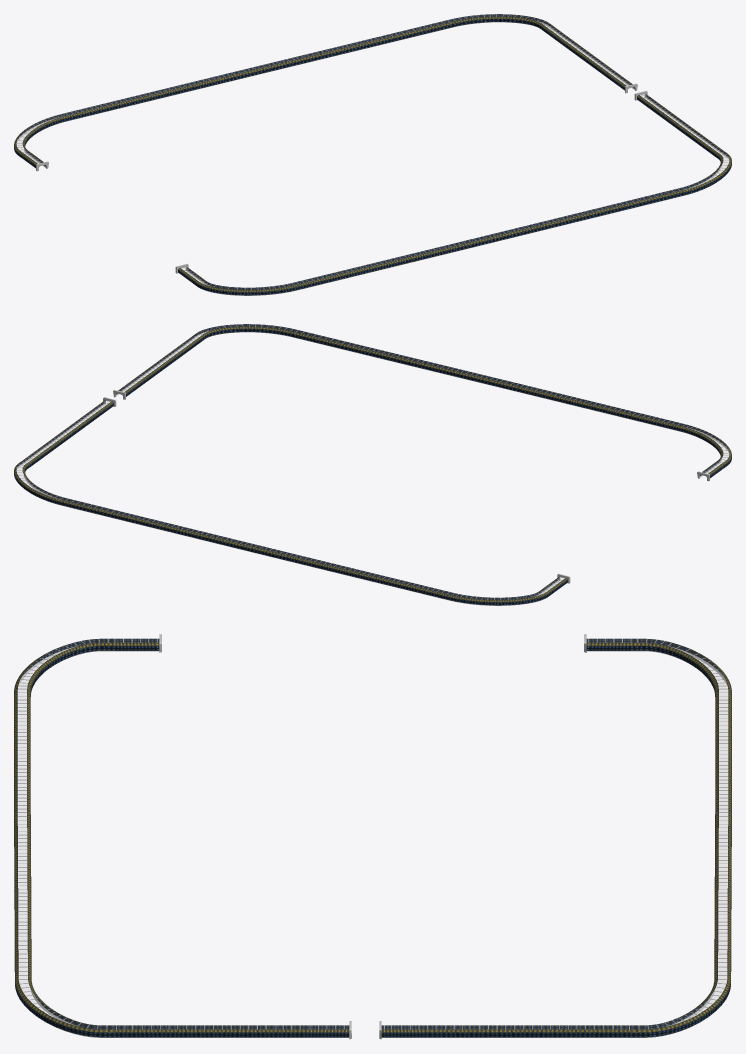
File: Trunle.fbx
The picture shows the model from 3 angles, top to bottom: view 1: azimuth 30°, elevation 25°; view 2: azimuth 150°, elevation 25°; view 3: azimuth 270°, elevation 25°; orthographic projection. The views are drawn at different scales.
Visible parts, largest first — view 1: Tunnel_main9, Tunnel_main7, base, group1_pCube3; view 2: Tunnel_main7, Tunnel_main9, base, group1_pCube3; view 3: Tunnel_main7, Tunnel_main9, base, group1_pCube3.
Part boxes in pixels (box(x1,y1,x2,y2)): Tunnel_main9: box(175, 90, 731, 295); Tunnel_main7: box(14, 14, 637, 171); base: box(16, 14, 630, 162); group1_pCube3: box(181, 94, 729, 290); Tunnel_main7: box(14, 397, 570, 605); Tunnel_main9: box(113, 324, 731, 481); base: box(16, 400, 564, 600); group1_pCube3: box(119, 324, 729, 472); Tunnel_main7: box(379, 634, 731, 1039); Tunnel_main9: box(14, 634, 351, 1039); base: box(384, 638, 728, 1029); group1_pCube3: box(17, 638, 344, 1029).
Bounding box in the file's own units: 258170 × 3008 × 197998.
